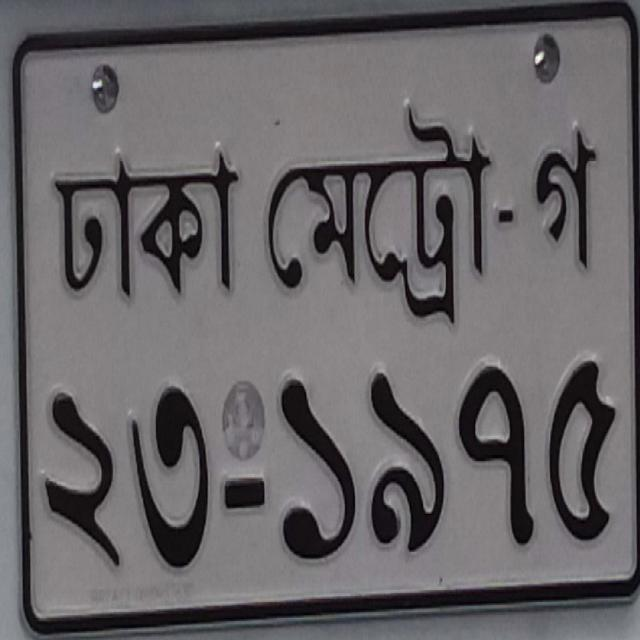numberplate: (7, 0, 638, 634)
